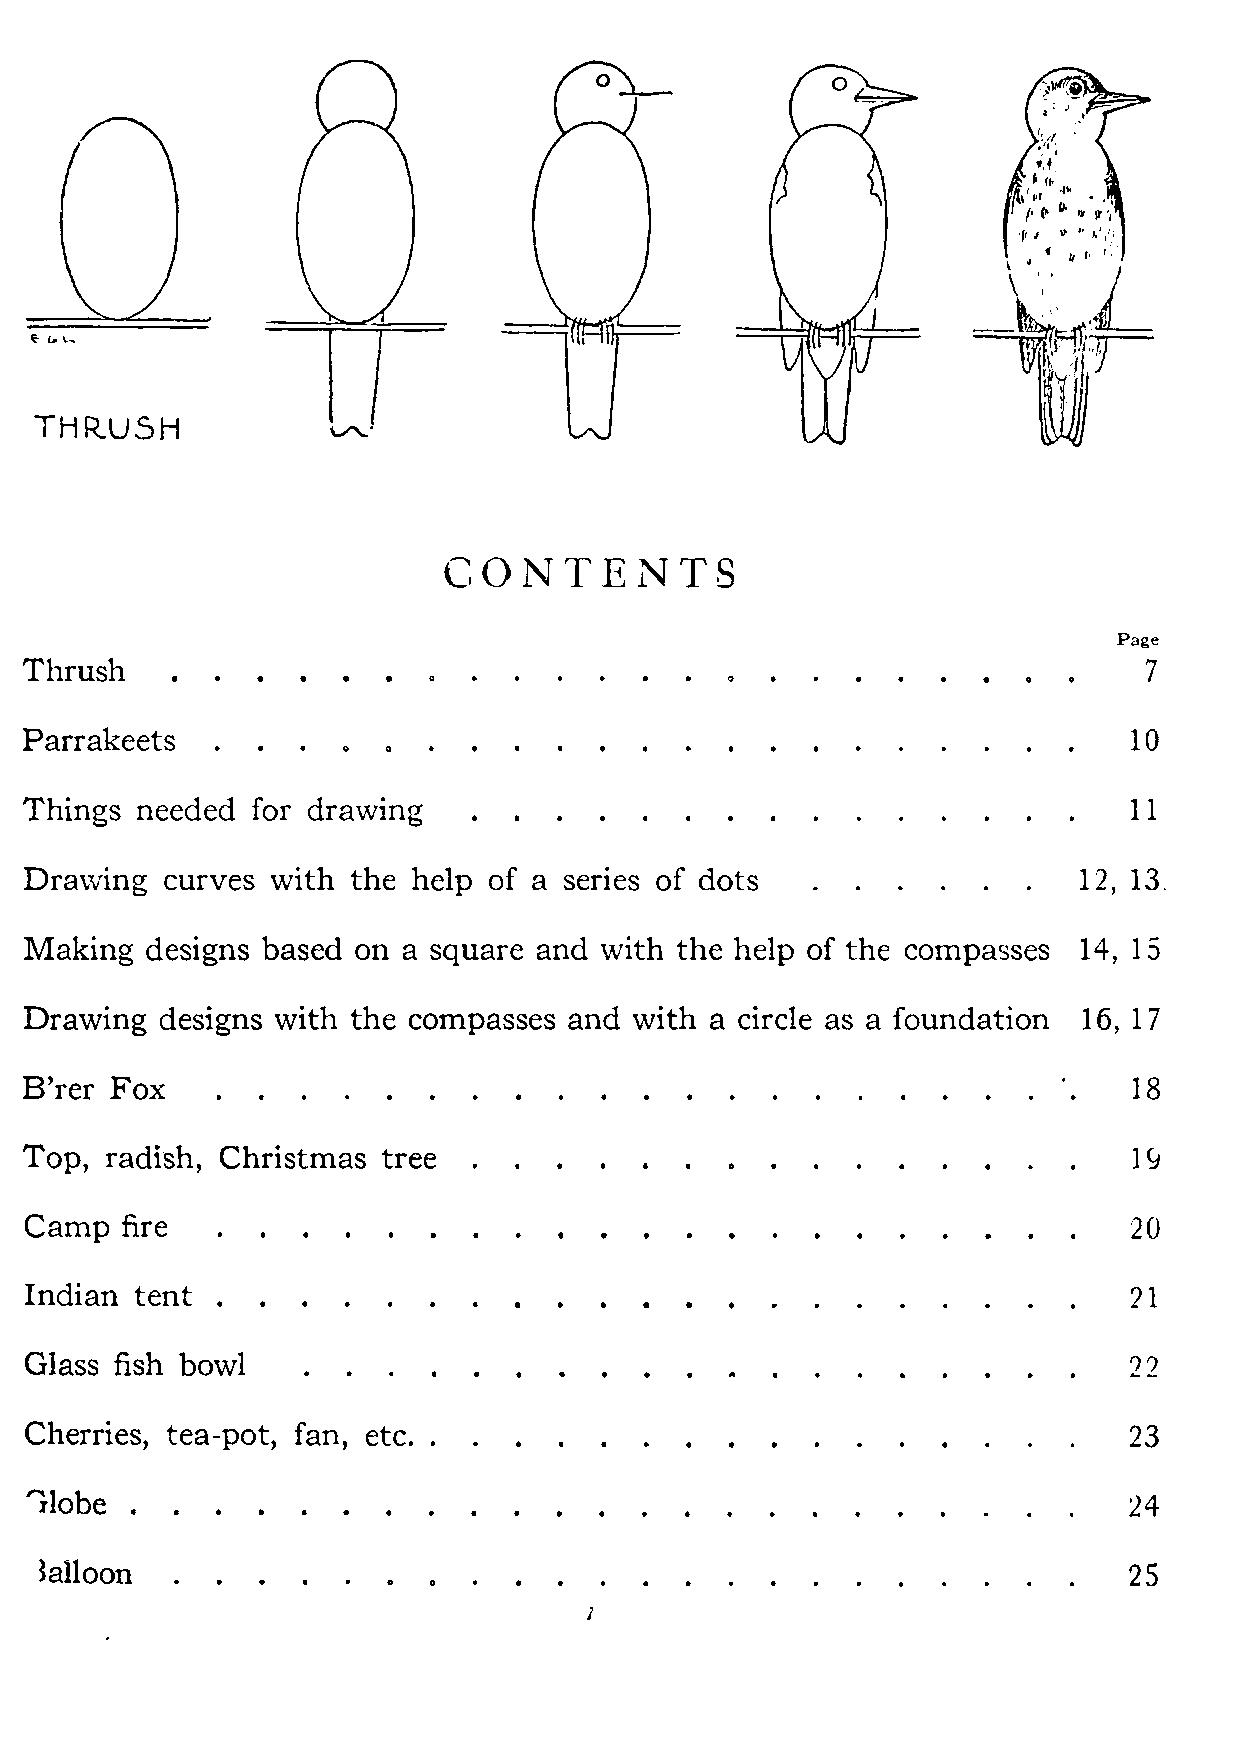TOC_chapter: (24, 929, 1052, 968), (19, 1002, 1053, 1039), (25, 858, 762, 898), (19, 1137, 439, 1178), (21, 790, 423, 828), (24, 1417, 415, 1451), (21, 1345, 251, 1380), (21, 1276, 197, 1312), (13, 1205, 178, 1241), (17, 721, 176, 757), (19, 1070, 166, 1104), (21, 1555, 136, 1590), (17, 652, 125, 686), (20, 1484, 115, 1519)
TOC_pagenumber: (1079, 862, 1168, 898), (1078, 931, 1164, 964), (1078, 1002, 1166, 1032), (1125, 721, 1168, 752), (1125, 1350, 1162, 1380), (1126, 1559, 1161, 1590), (1125, 794, 1164, 821), (1130, 1074, 1164, 1104), (1130, 1139, 1161, 1172), (1126, 1494, 1161, 1522), (1127, 1424, 1164, 1451), (1130, 1212, 1162, 1241), (1126, 1283, 1159, 1310), (1139, 654, 1161, 680)
chapter: (440, 550, 737, 590)
